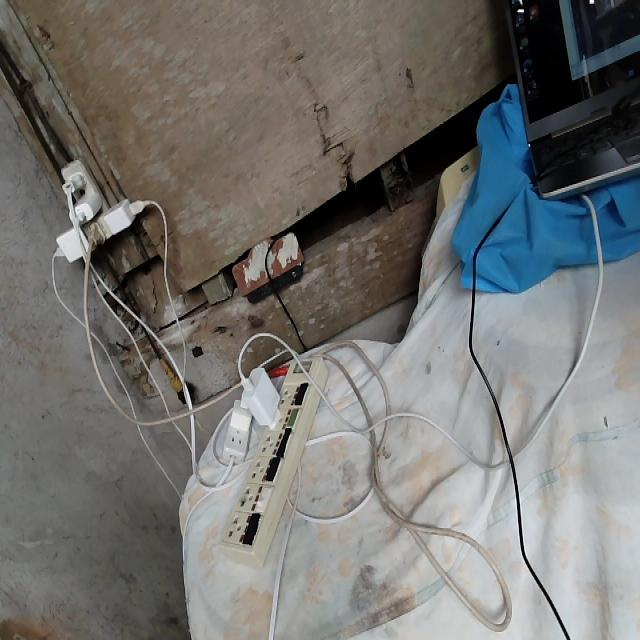-: (52, 157, 145, 263)
